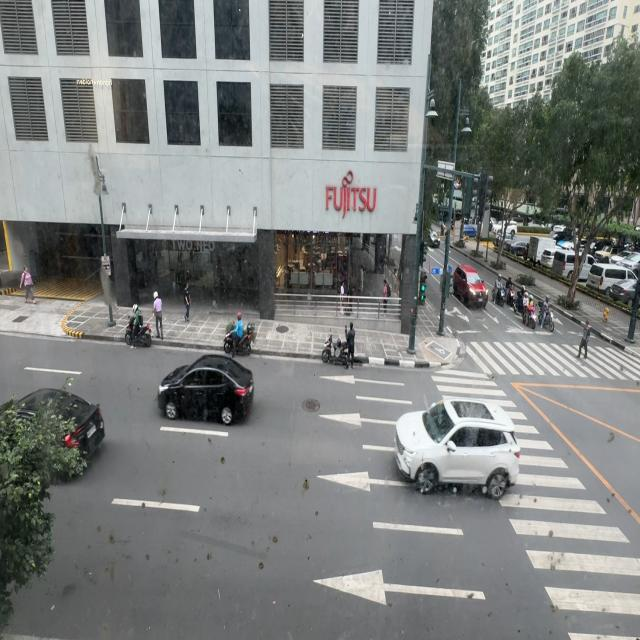crossing: (577, 320, 591, 360)
pedestrain: (20, 265, 37, 303), (153, 291, 164, 340), (382, 280, 390, 316), (183, 282, 190, 323), (340, 282, 345, 314)
